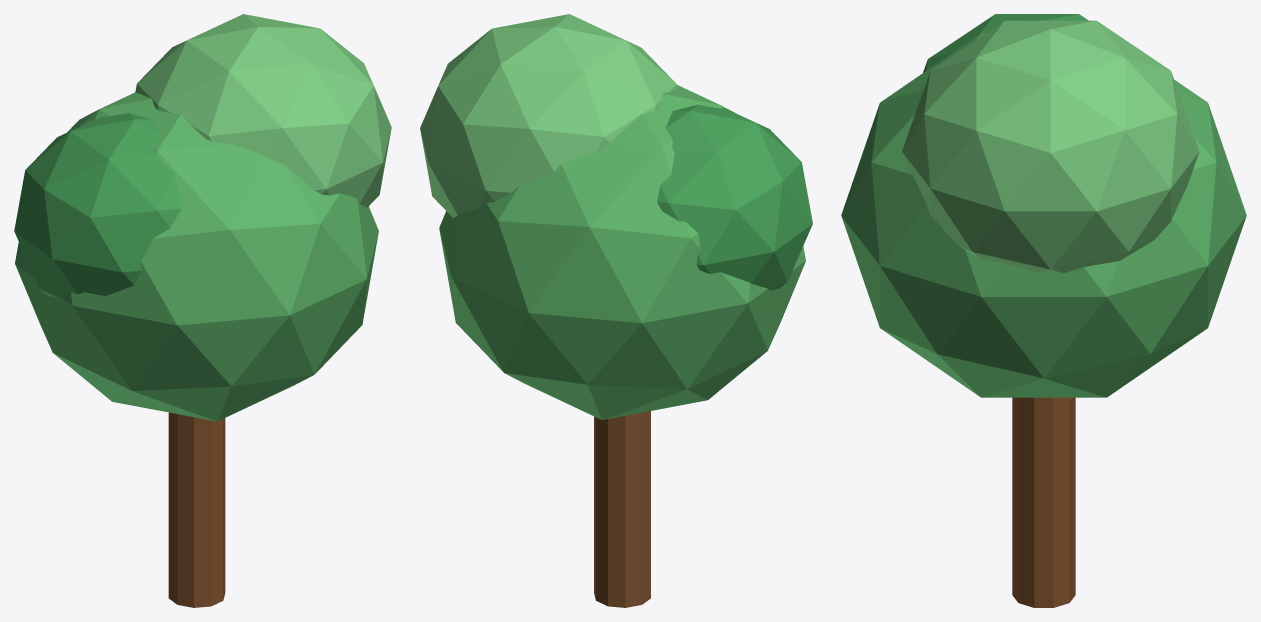
The model's file is Parkour_Tree.fbx.
3 renders of one model, left to right at view 1: azimuth 30°, elevation 25°; view 2: azimuth 150°, elevation 25°; view 3: azimuth 270°, elevation 25°, orthographic. The views are drawn at different scales.
Parts seen in each view (by area): view 1: Tree; view 2: Tree; view 3: Tree.
Part boxes in pixels (x1,y1,x2,y2): Tree: [14, 14, 391, 607]; Tree: [420, 14, 812, 607]; Tree: [841, 14, 1246, 607].
Bounding box in the file's own units: 3.2 × 4.9 × 3.
